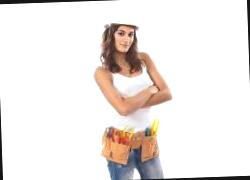helmet: (100, 1, 147, 34)
no_vest: (96, 50, 162, 129)
person: (86, 0, 171, 178)
